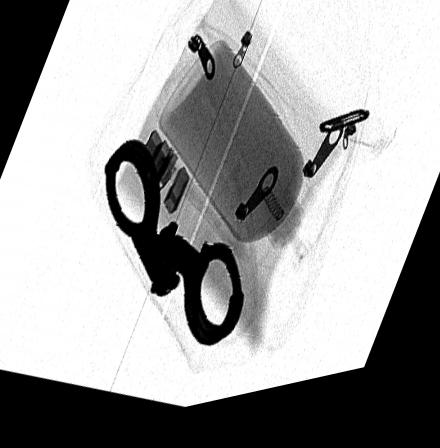HandCuffs: (102, 145, 243, 356)
